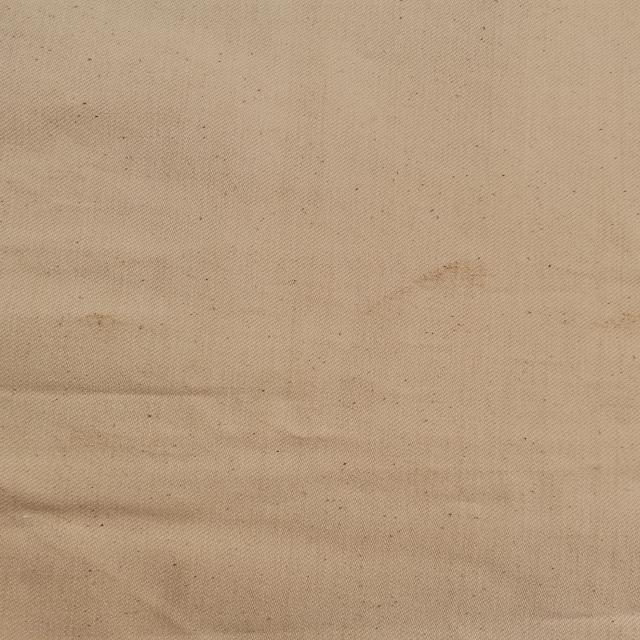taaaches: (354, 259, 501, 315), (74, 312, 133, 335)
